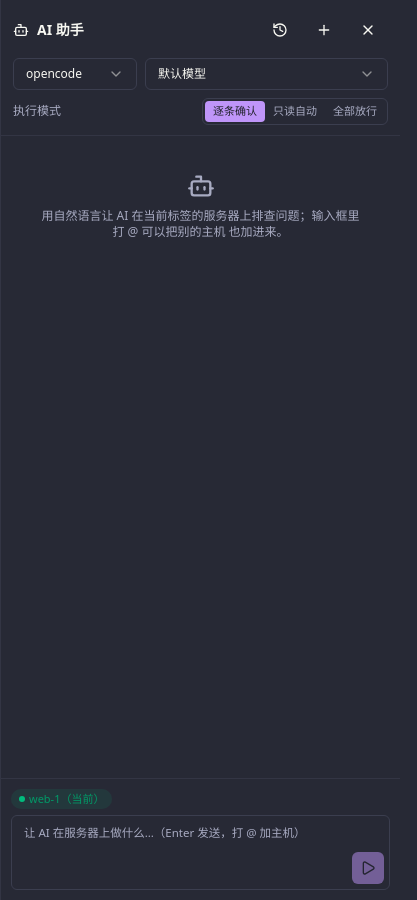
Test: 执行完的工具调用折叠 › 命令和文件工具混在一起：一行写明各是几个
The width and height of the screenshot is (417, 900).
Click the button titled "新对话". click: (324, 30)
box: [304,10,344,50]
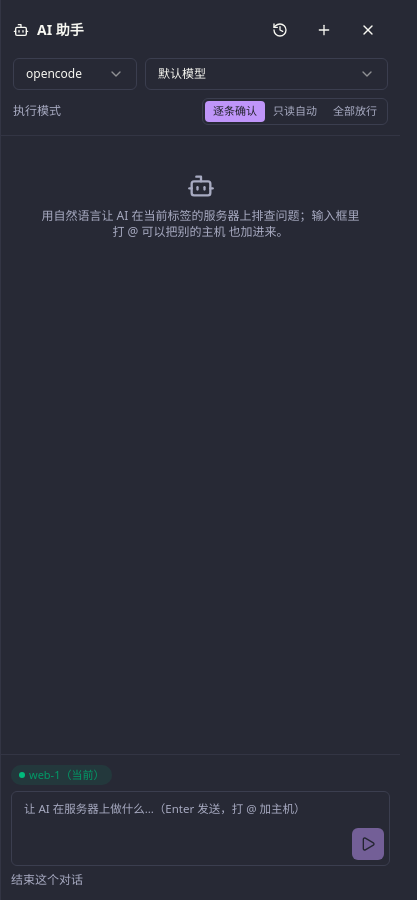
Type "看看" into the text box with placeholder "让 AI 在服务器上做什么…（Enter 发送，打 @ 加主机）". click: (200, 828)
box: [11,791,390,866]
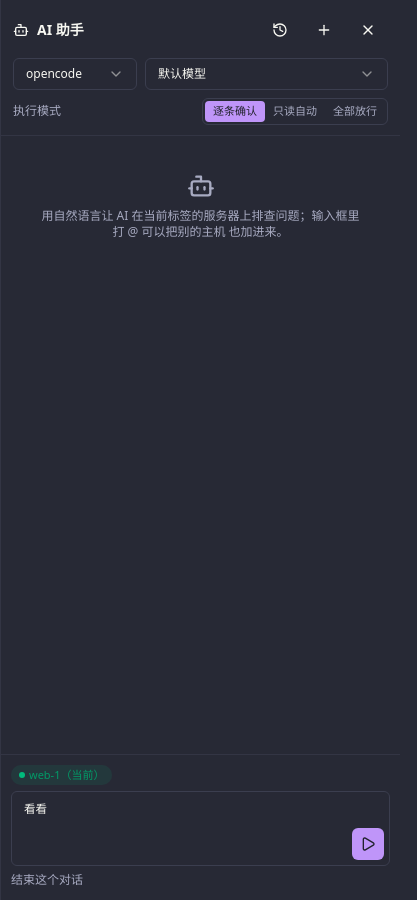
Click the button titled "发送". click: (368, 844)
box: [352,828,384,860]
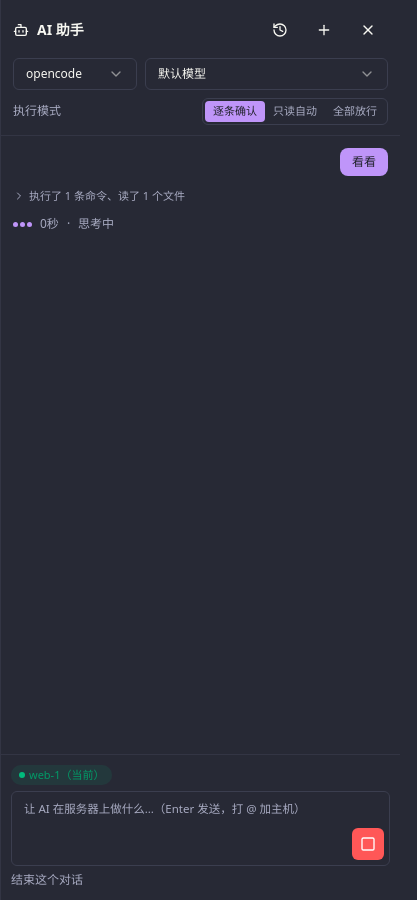
expect the element showing "执行了 1 条命令、读了 1 个文件" is shown: met, box [13,188,185,204]
